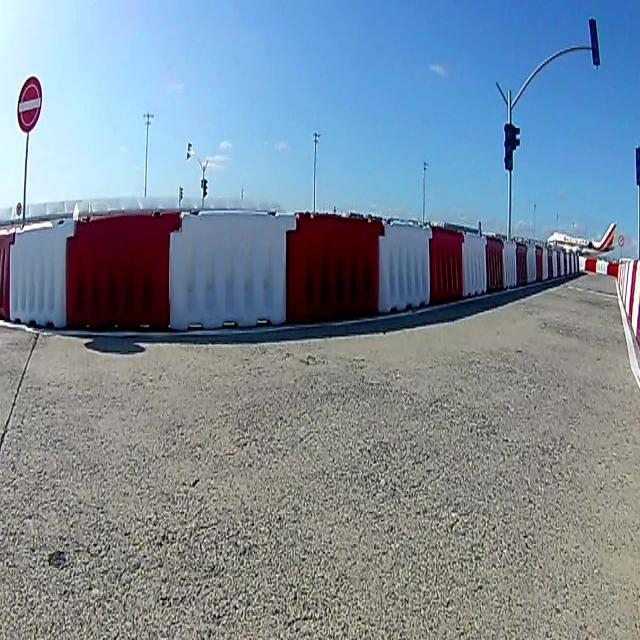girisyok: (17, 76, 42, 132)
